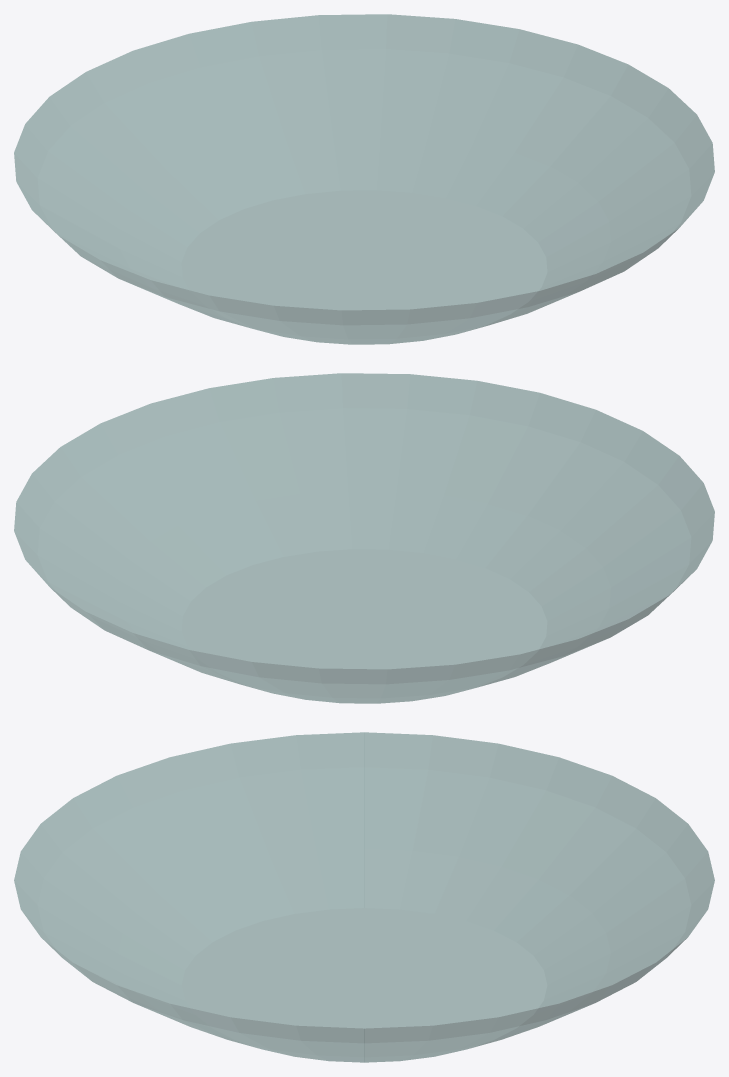
Rendered from FountainWater.fbx.
3 views of the same model, one above another, from view 1: azimuth 30°, elevation 25°; view 2: azimuth 150°, elevation 25°; view 3: azimuth 270°, elevation 25° (orthographic).
Parts seen in each view (by area): view 1: Cylinder.001; view 2: Cylinder.001; view 3: Cylinder.001.
Boxes of the visible parts, bbox=[...] form: Cylinder.001: bbox=[14, 14, 714, 344]; Cylinder.001: bbox=[14, 373, 714, 703]; Cylinder.001: bbox=[14, 732, 714, 1062].
Bounding box in the file's own units: 853 × 141 × 853.
